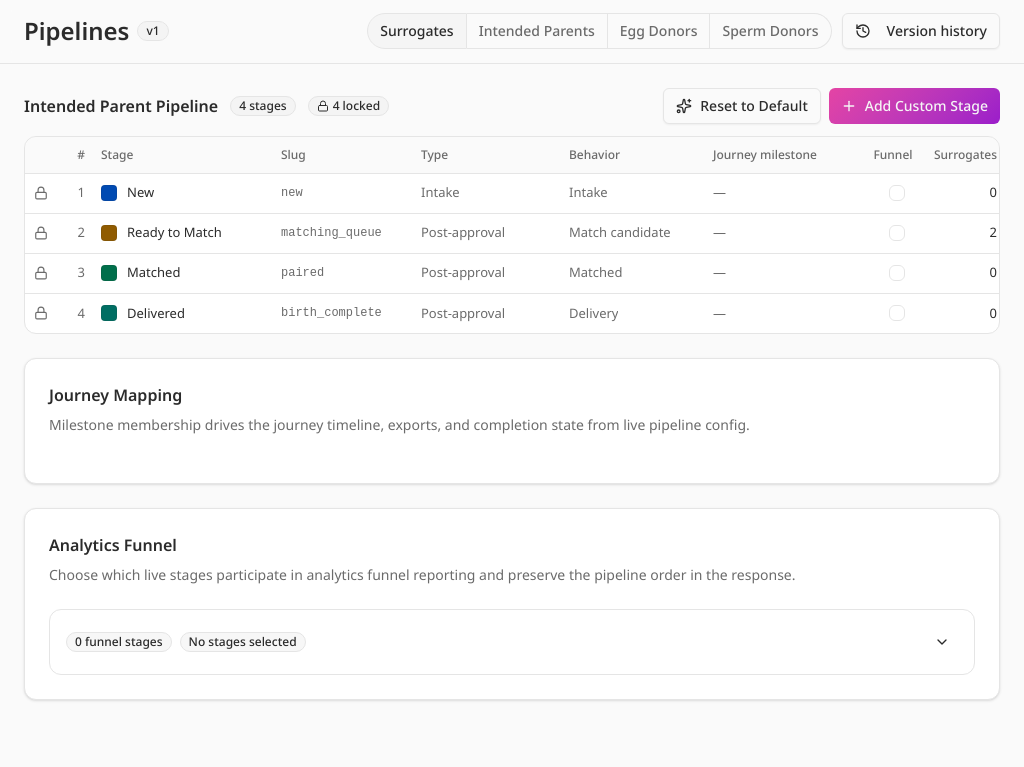
Test: PipelinesSettingsPage › labels intended-parent record remap reasons
The width and height of the screenshot is (1024, 767).
Click the button "Add Custom Stage". click: (914, 106)
box: [829, 88, 1000, 124]
Wait 1200 ms
(page scrolled)
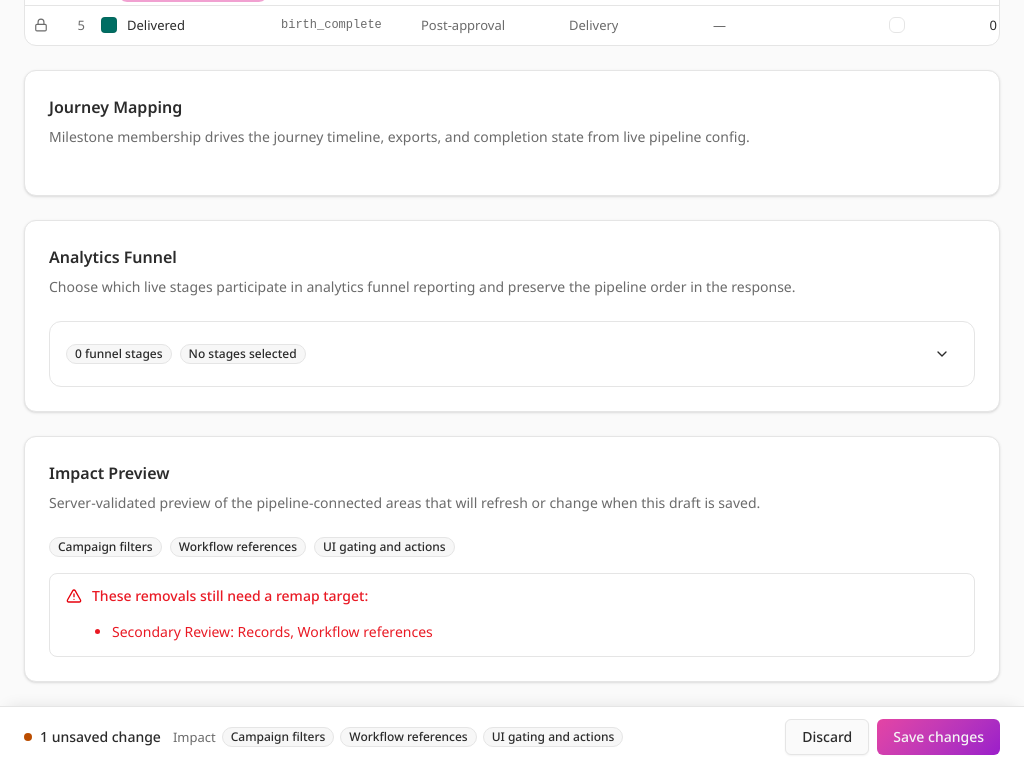
Result: the list item "Secondary Review: Records, Workflow references" is shown at [112, 622, 433, 641]
